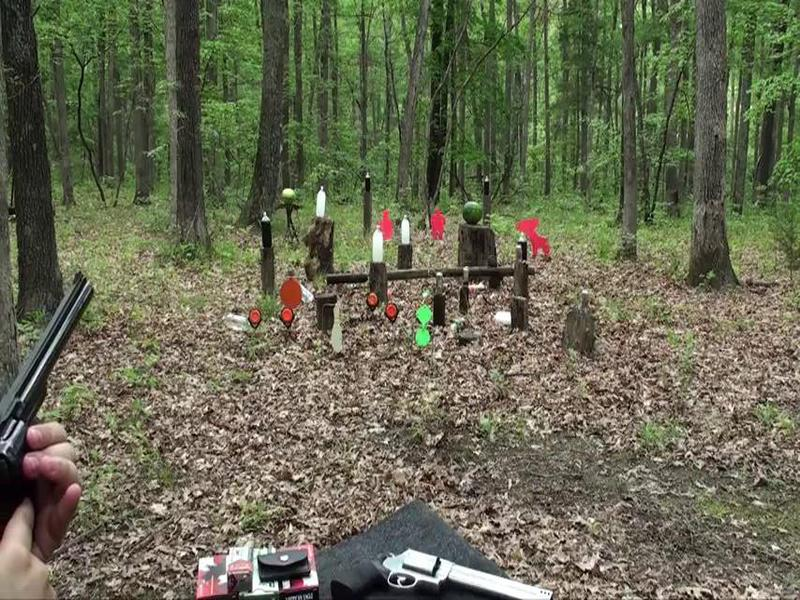Revolver: (1, 247, 112, 527)
